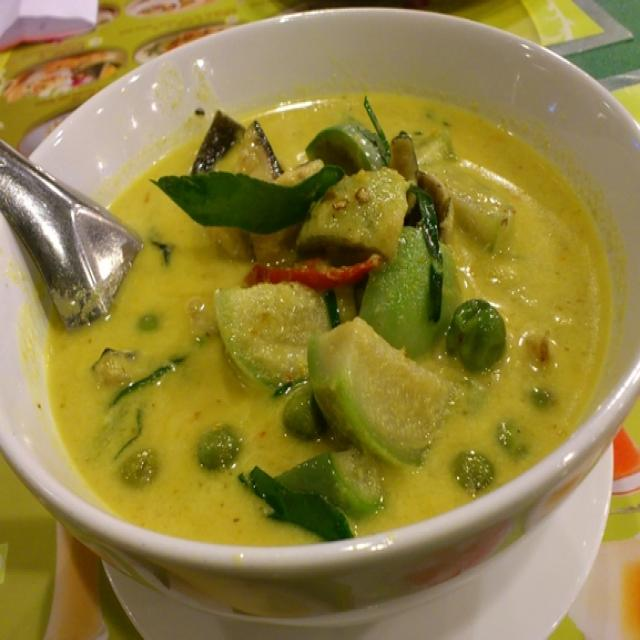熟制海鲜: (49, 0, 576, 640)
